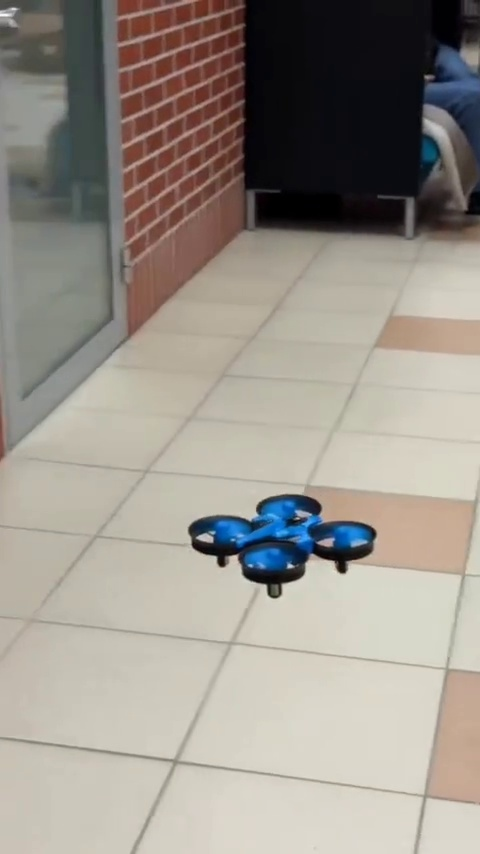drone: (189, 494, 379, 592)
